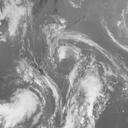cyclone: (20, 22, 109, 116)
